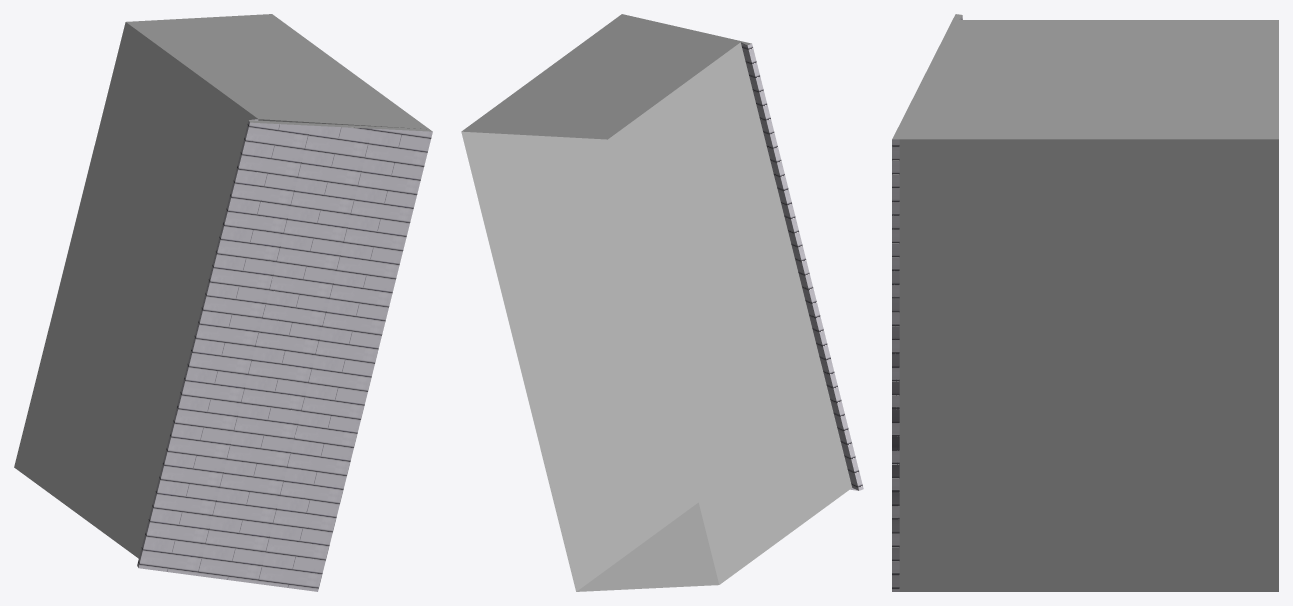
Rendered from Pikk_30a-origo.obj.
3 views of the same model, side by side, from view 1: azimuth 30°, elevation 25°; view 2: azimuth 150°, elevation 25°; view 3: azimuth 270°, elevation 25° (orthographic). The views are drawn at different scales.
Visible parts, largest first — view 1: Pikk_30a, xxx; view 2: Pikk_30a, xxx; view 3: Pikk_30a, xxx.
Boxes of the visible parts, left/top/right/bottom form: Pikk_30a: left=14, top=22, right=432, bottom=591; xxx: left=126, top=14, right=432, bottom=131; Pikk_30a: left=461, top=42, right=863, bottom=591; xxx: left=461, top=14, right=751, bottom=139; Pikk_30a: left=892, top=15, right=1278, bottom=591; xxx: left=892, top=14, right=1278, bottom=139.
Bounding box in the file's own units: 10.06 × 16.5 × 10.45.
